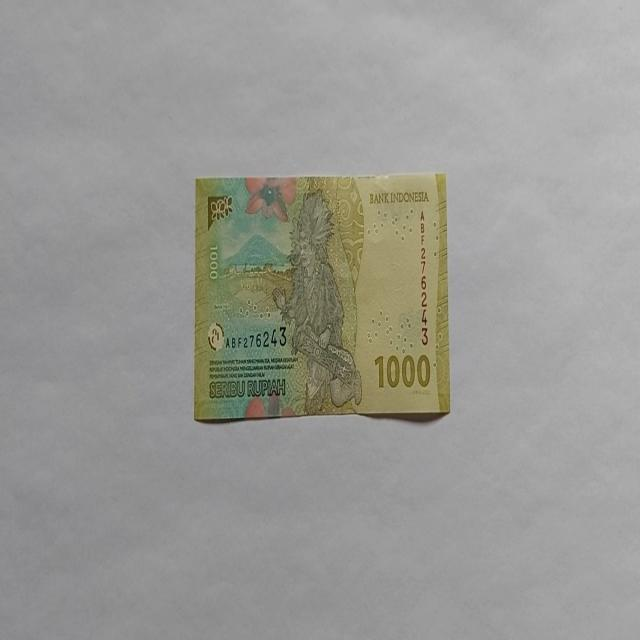seribu rupiah kertas: (193, 171, 451, 422)
